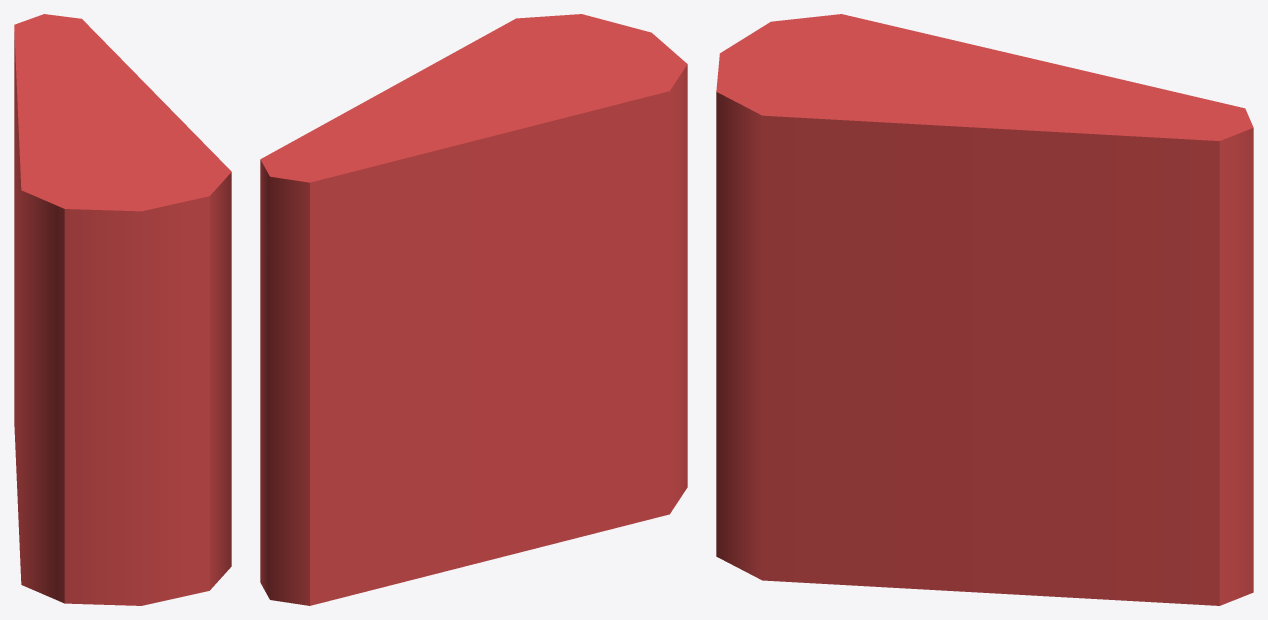
File: red_flipper_kgunn.fbx
3 renders of one model, left to right at view 1: azimuth 30°, elevation 25°; view 2: azimuth 150°, elevation 25°; view 3: azimuth 270°, elevation 25°, orthographic. The views are drawn at different scales.
Parts seen in each view (by area): view 1: flipper04_GEO_TestTable01_kgunn; view 2: flipper04_GEO_TestTable01_kgunn; view 3: flipper04_GEO_TestTable01_kgunn.
Part boxes in pixels (<box>): flipper04_GEO_TestTable01_kgunn: <box>14,14,231,605</box>; flipper04_GEO_TestTable01_kgunn: <box>260,14,687,605</box>; flipper04_GEO_TestTable01_kgunn: <box>716,14,1253,605</box>.
Size of the model in its own units: 58.65 by 100 by 105.
